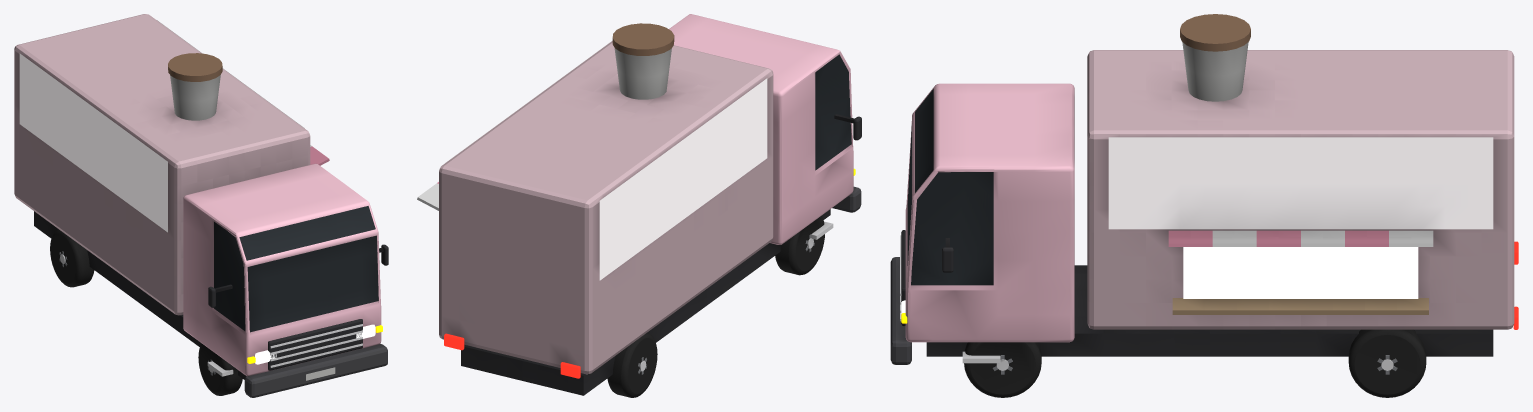
The model's file is car_coffee.glb.
The picture shows the model from 3 angles, left to right: view 1: azimuth 30°, elevation 25°; view 2: azimuth 150°, elevation 25°; view 3: azimuth 270°, elevation 25°; orthographic projection. The views are drawn at different scales.
Parts seen in each view (by area): view 1: body, screen_R, w_RL, w_FL; view 2: body, screen_R, w_RL, w_FL; view 3: body, screen_L, w_RR, w_FR.
Boxes of the visible parts, x1,y1,x2,y2 form: body: [14, 14, 388, 397]; screen_R: [19, 53, 167, 232]; w_RL: [50, 229, 94, 287]; w_FL: [198, 343, 242, 395]; body: [417, 14, 861, 395]; screen_R: [599, 78, 767, 280]; w_RL: [607, 332, 657, 397]; w_FL: [775, 216, 824, 275]; body: [890, 14, 1518, 364]; screen_L: [1108, 137, 1493, 229]; w_RR: [1348, 329, 1426, 397]; w_FR: [964, 342, 1041, 397].
Bounding box in the file's own units: 3.63 × 4.3 × 7.43.
